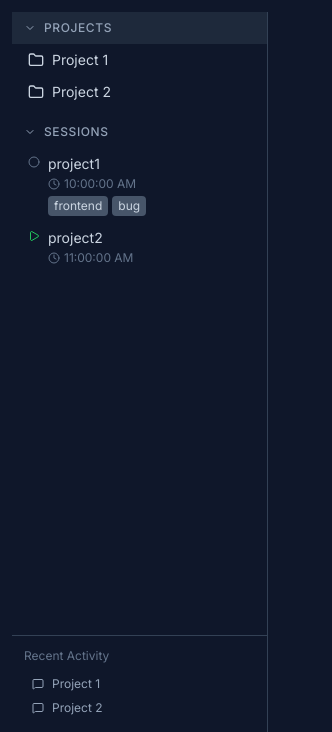
Test: Sidebar › Projects Section › should collapse/expand projects section
Click the button "Projects".
click(140, 28)  # box [12,12,267,44]
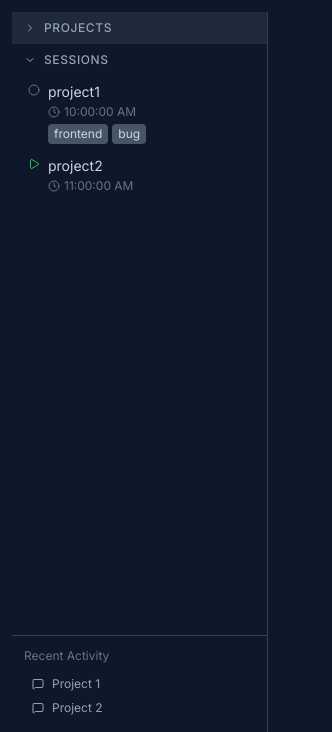
Click the button "Projects".
click(140, 28)  # box [12,12,267,44]
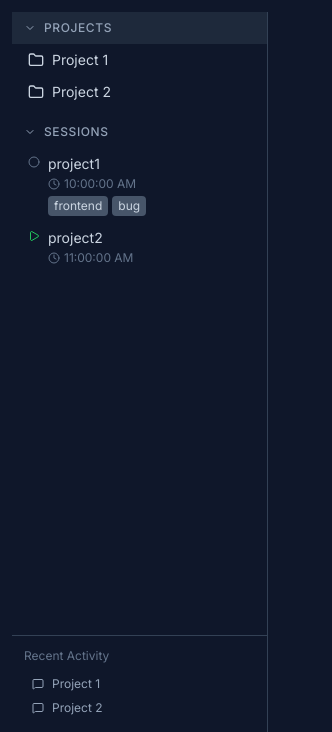
expect the text "Project 1" is shown 2 times: met, box [52,50,108,70]; [52,676,100,692]
